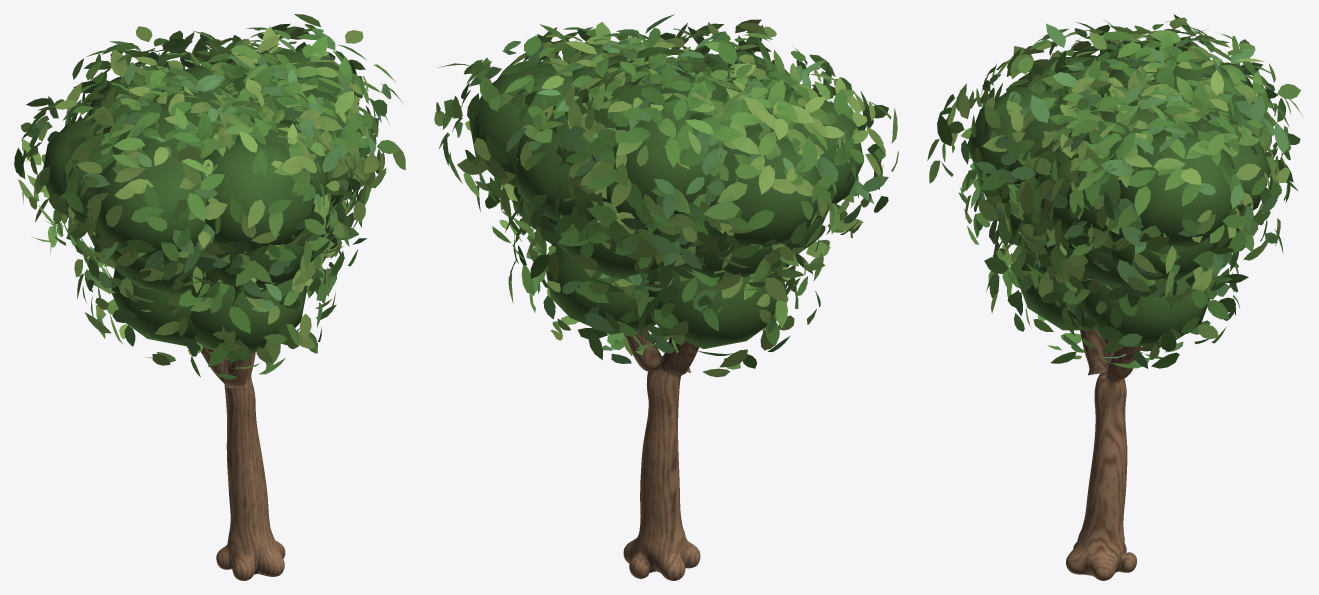
Rendered from tree_1.glb.
The picture shows the model from 3 angles, left to right: view 1: azimuth 30°, elevation 25°; view 2: azimuth 150°, elevation 25°; view 3: azimuth 270°, elevation 25°; orthographic projection. The views are drawn at different scales.
Visible parts, largest first — view 1: tree1_leaves, tree1_bark; view 2: tree1_leaves, tree1_bark; view 3: tree1_leaves, tree1_bark.
Boxes of the visible parts, x1,y1,x2,y2 form: tree1_leaves: (14, 14, 405, 379); tree1_bark: (197, 342, 285, 580); tree1_leaves: (434, 14, 898, 377); tree1_bark: (623, 328, 700, 580); tree1_leaves: (927, 14, 1302, 368); tree1_bark: (1066, 330, 1141, 580).
Size of the model in its own units: 3.5 by 4.69 by 3.17.
Materials: 2 (1 with a texture image).
